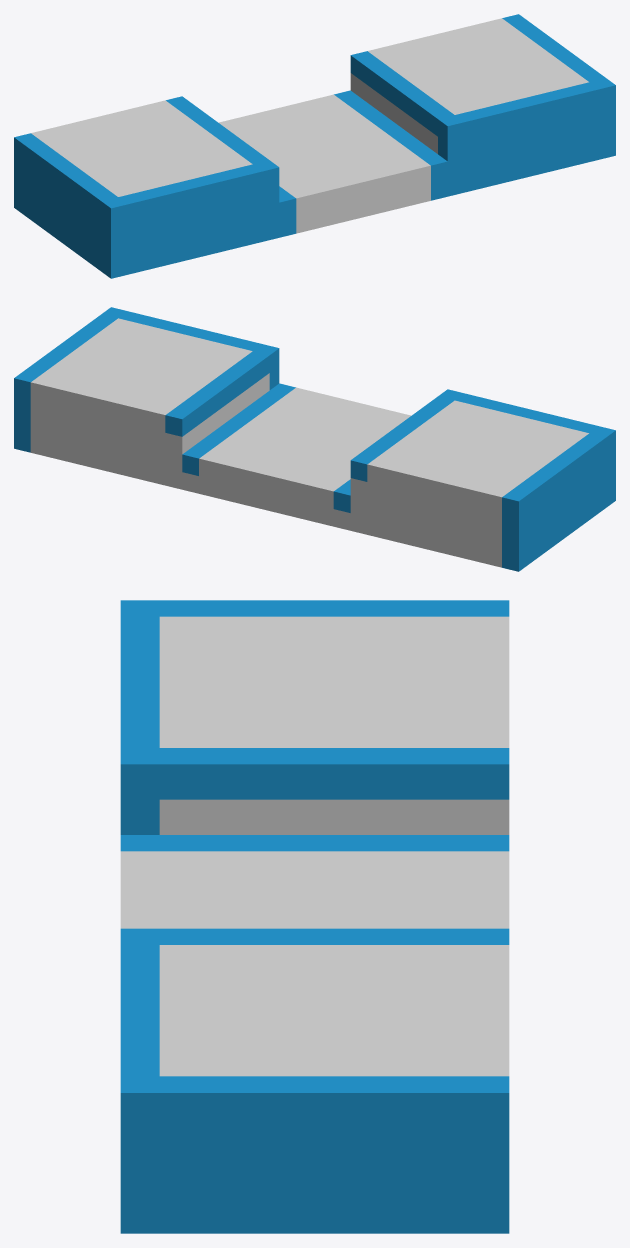
Rendered from DefaultToAlley.fbx.
3 views of the same model, one above another, from view 1: azimuth 30°, elevation 25°; view 2: azimuth 150°, elevation 25°; view 3: azimuth 270°, elevation 25° (orthographic). The views are drawn at different scales.
Parts seen in each view (by area): view 1: Matrix_1; view 2: Matrix_1; view 3: Matrix_1.
Boxes of the visible parts, <box> form: Matrix_1: <box>14,14,615,278</box>; Matrix_1: <box>14,307,615,571</box>; Matrix_1: <box>120,600,509,1233</box>.
Bounding box in the file's own units: 30 × 4 × 10.
